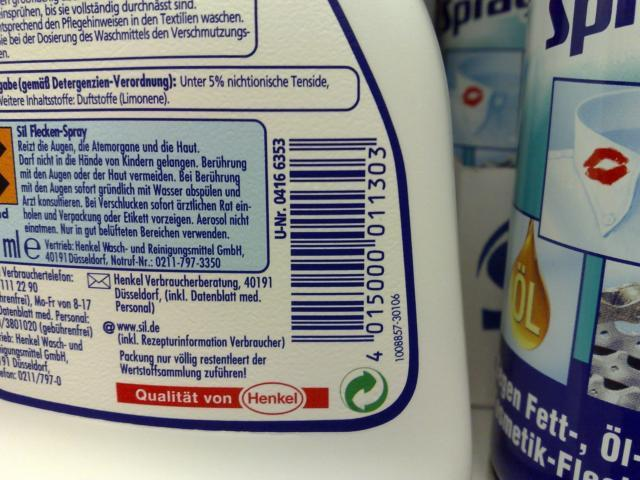Barcode: (286, 123, 390, 371)
